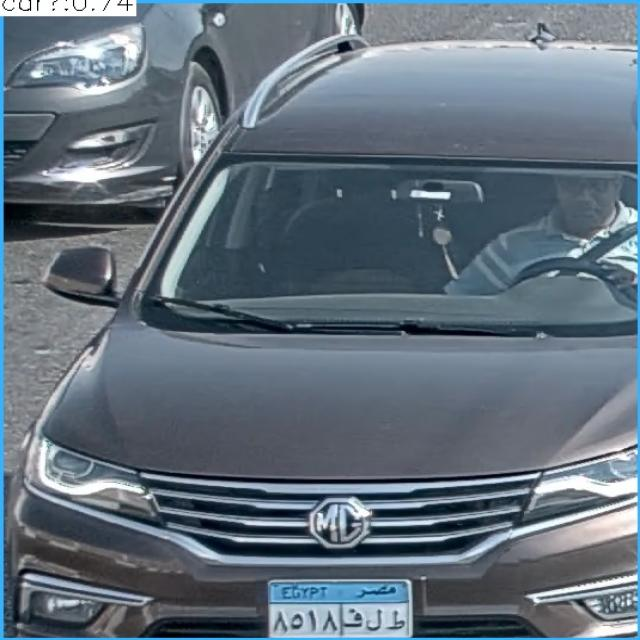windshield: (161, 151, 640, 333)
